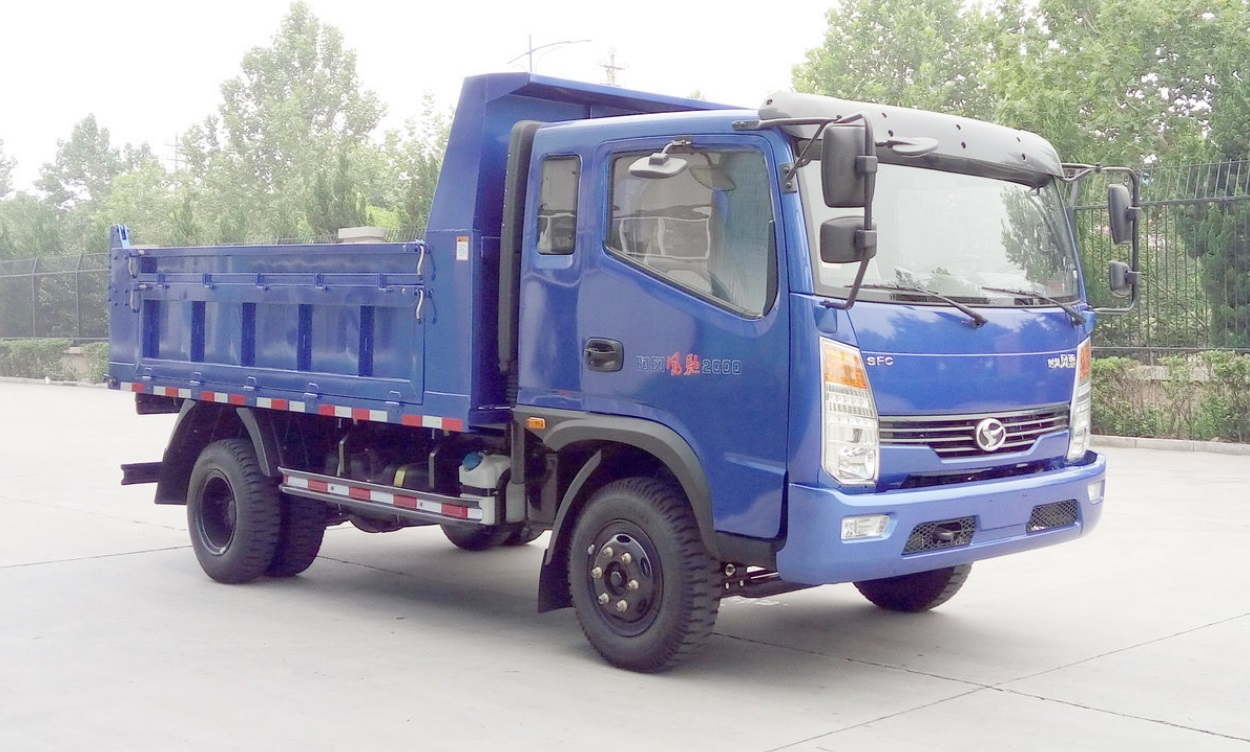truck: (105, 67, 1148, 675)
